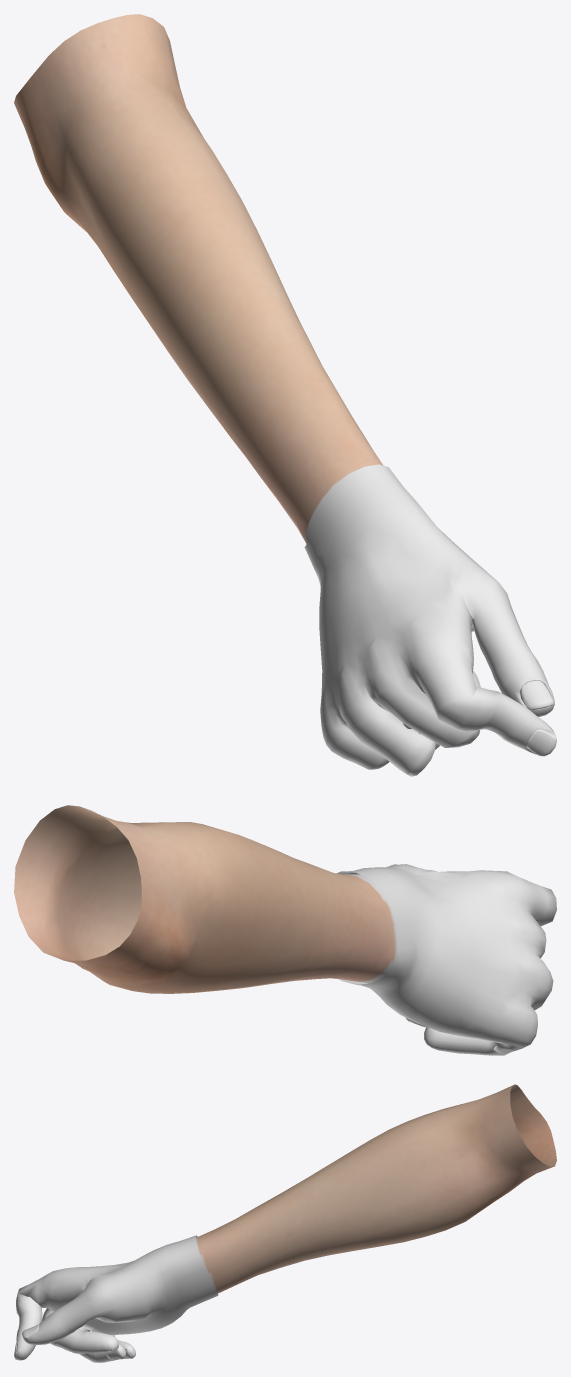
The picture shows the model from 3 angles, top to bottom: view 1: azimuth 30°, elevation 25°; view 2: azimuth 150°, elevation 25°; view 3: azimuth 270°, elevation 25°; orthographic projection. The views are drawn at different scales.
Visible parts, largest first — view 1: hushi02_xiezi_model.002; view 2: hushi02_xiezi_model.002; view 3: hushi02_xiezi_model.002.
Part boxes in pixels (box(x1,y1,x2,y2)): hushi02_xiezi_model.002: box(14, 14, 556, 776); hushi02_xiezi_model.002: box(14, 805, 556, 1055); hushi02_xiezi_model.002: box(14, 1084, 556, 1362).
Size of the model in its own units: 9.4 by 23.03 by 39.11.
2 materials, 1 textured.
